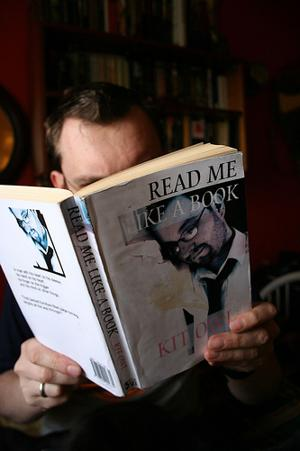person: (2, 80, 286, 451)
